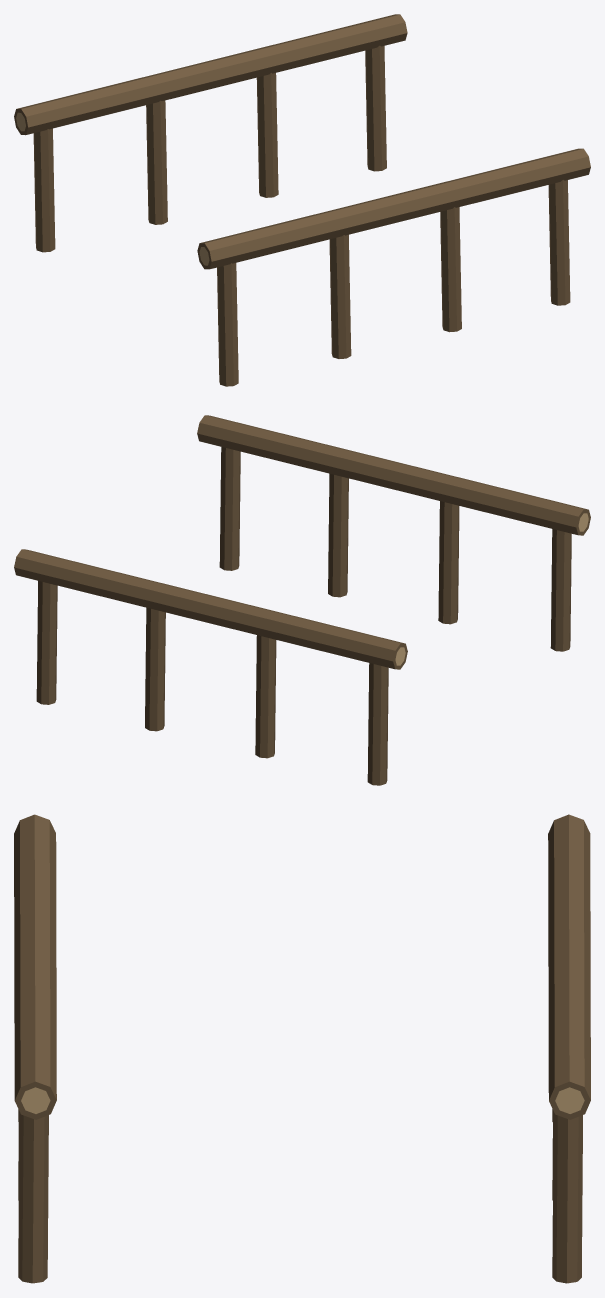
Rendered from rpgpp_ag_wall_platform_03_handrail_01b.fbx.
3 views of the same model, one above another, from view 1: azimuth 30°, elevation 25°; view 2: azimuth 150°, elevation 25°; view 3: azimuth 270°, elevation 25° (orthographic). The views are drawn at different scales.
Parts seen in each view (by area): view 1: rpgpp_ag_wall_platform_03_handrail_01b; view 2: rpgpp_ag_wall_platform_03_handrail_01b; view 3: rpgpp_ag_wall_platform_03_handrail_01b.
Boxes of the visible parts, left/top/right/bottom form: rpgpp_ag_wall_platform_03_handrail_01b: left=14, top=14, right=590, bottom=386; rpgpp_ag_wall_platform_03_handrail_01b: left=14, top=415, right=590, bottom=785; rpgpp_ag_wall_platform_03_handrail_01b: left=14, top=814, right=590, bottom=1283.
Bounding box in the file's own units: 2.48 × 0.9131 × 2.24.
